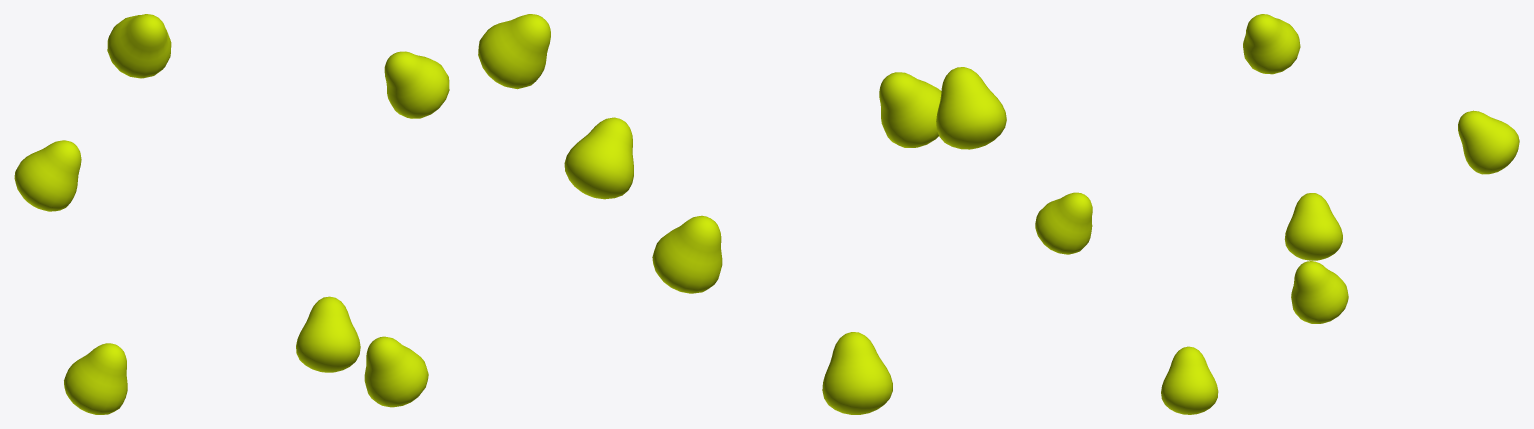
Rendered from Bush1Fruit.gltf.
3 renders of one model, left to right at view 1: azimuth 30°, elevation 25°; view 2: azimuth 150°, elevation 25°; view 3: azimuth 270°, elevation 25°, orthographic. The views are drawn at different scales.
Visible parts, largest first — view 1: Fruit.001, Fruit.004, Fruit, Fruit.005, Fruit.002, Fruit.003; view 2: Fruit.004, Fruit.003, Fruit, Fruit.005, Fruit.002, Fruit.001; view 3: Fruit.002, Fruit.003, Fruit.005, Fruit.001, Fruit, Fruit.004.
Part boxes in pixels (bbox=[...]): Fruit.001: bbox=[296, 296, 360, 372]; Fruit.004: bbox=[14, 140, 81, 211]; Fruit: bbox=[64, 343, 127, 414]; Fruit.005: bbox=[364, 336, 428, 407]; Fruit.002: bbox=[384, 51, 449, 118]; Fruit.003: bbox=[107, 14, 171, 78]; Fruit.004: bbox=[936, 67, 1006, 149]; Fruit.003: bbox=[564, 117, 633, 199]; Fruit: bbox=[822, 332, 892, 414]; Fruit.005: bbox=[652, 215, 722, 293]; Fruit.002: bbox=[478, 14, 550, 89]; Fruit.001: bbox=[879, 72, 941, 147]; Fruit.002: bbox=[1284, 193, 1342, 260]; Fruit.003: bbox=[1458, 110, 1519, 174]; Fruit.005: bbox=[1161, 346, 1218, 414]; Fruit.001: bbox=[1035, 192, 1092, 254]; Fruit: bbox=[1291, 261, 1348, 323]; Fruit.004: bbox=[1243, 14, 1300, 74].
Bounding box in the file's own units: 1.62 × 1.06 × 1.68.
